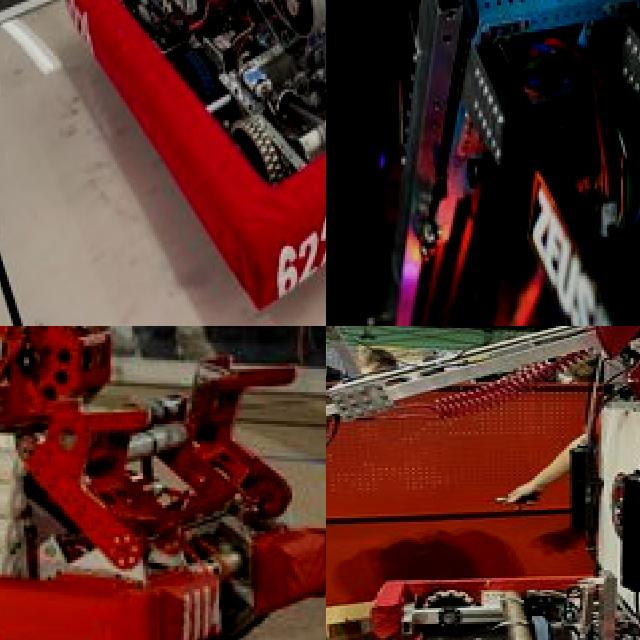FRC-Robots: (326, 0, 640, 326), (0, 326, 326, 640), (326, 326, 640, 640), (61, 0, 326, 288)
